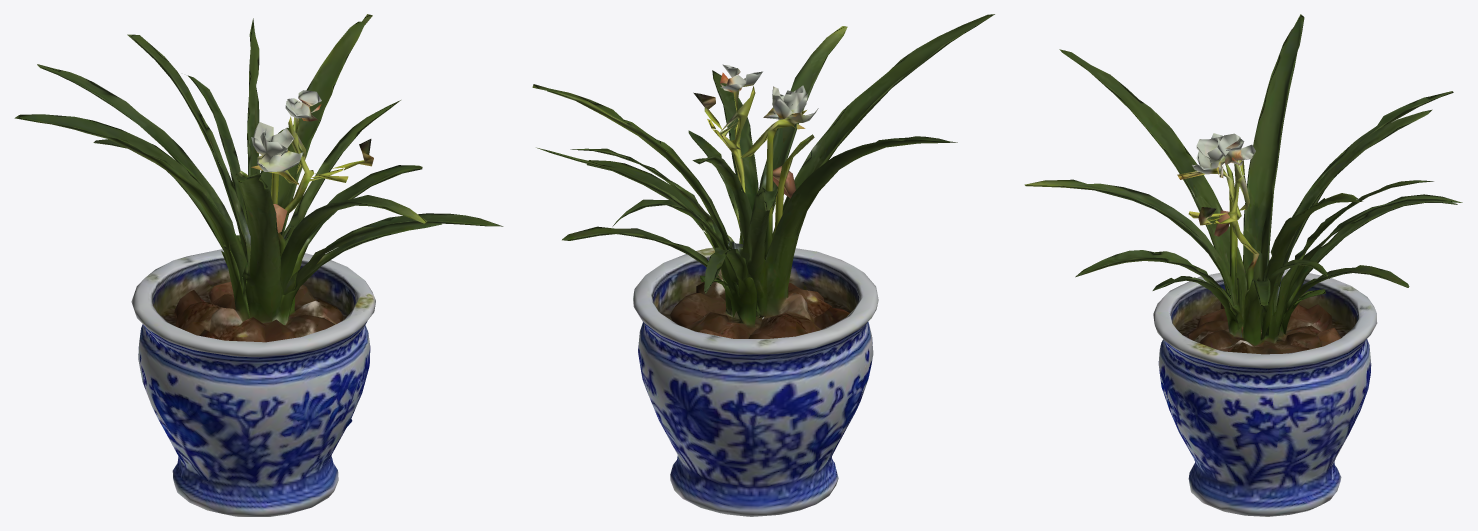
The model's file is penlan.glb.
3 renders of one model, left to right at view 1: azimuth 30°, elevation 25°; view 2: azimuth 150°, elevation 25°; view 3: azimuth 270°, elevation 25°, orthographic. The views are drawn at different scales.
Parts seen in each view (by area): view 1: tripo_node_192a0b9e-f9cc-4f2c-b1cf-bde28fd83118; view 2: tripo_node_192a0b9e-f9cc-4f2c-b1cf-bde28fd83118; view 3: tripo_node_192a0b9e-f9cc-4f2c-b1cf-bde28fd83118.
Boxes of the visible parts, box(x1,y1,x2,y2) form: tripo_node_192a0b9e-f9cc-4f2c-b1cf-bde28fd83118: box(14, 14, 503, 516); tripo_node_192a0b9e-f9cc-4f2c-b1cf-bde28fd83118: box(532, 14, 994, 516); tripo_node_192a0b9e-f9cc-4f2c-b1cf-bde28fd83118: box(1024, 14, 1462, 516).
Size of the model in its own units: 1.01 by 1 by 1.04.
Materials: 1 (1 with a texture image).
